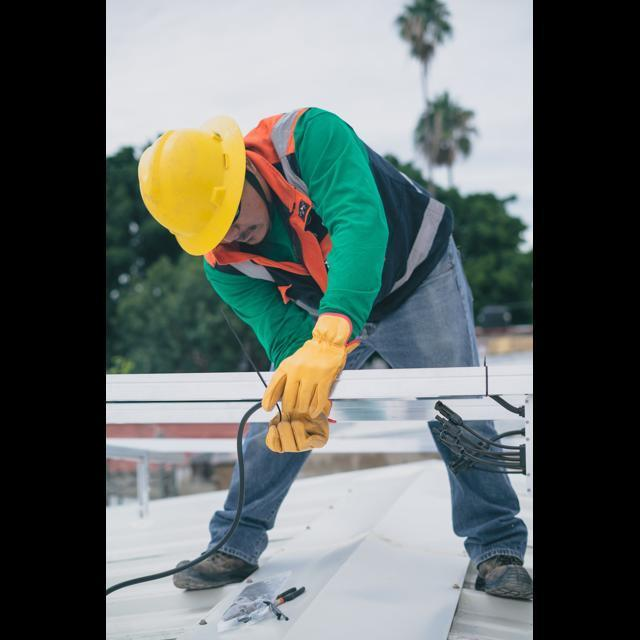Capacete: (138, 116, 245, 254)
Colete: (205, 108, 330, 313)
Pessoa: (139, 108, 478, 588)
